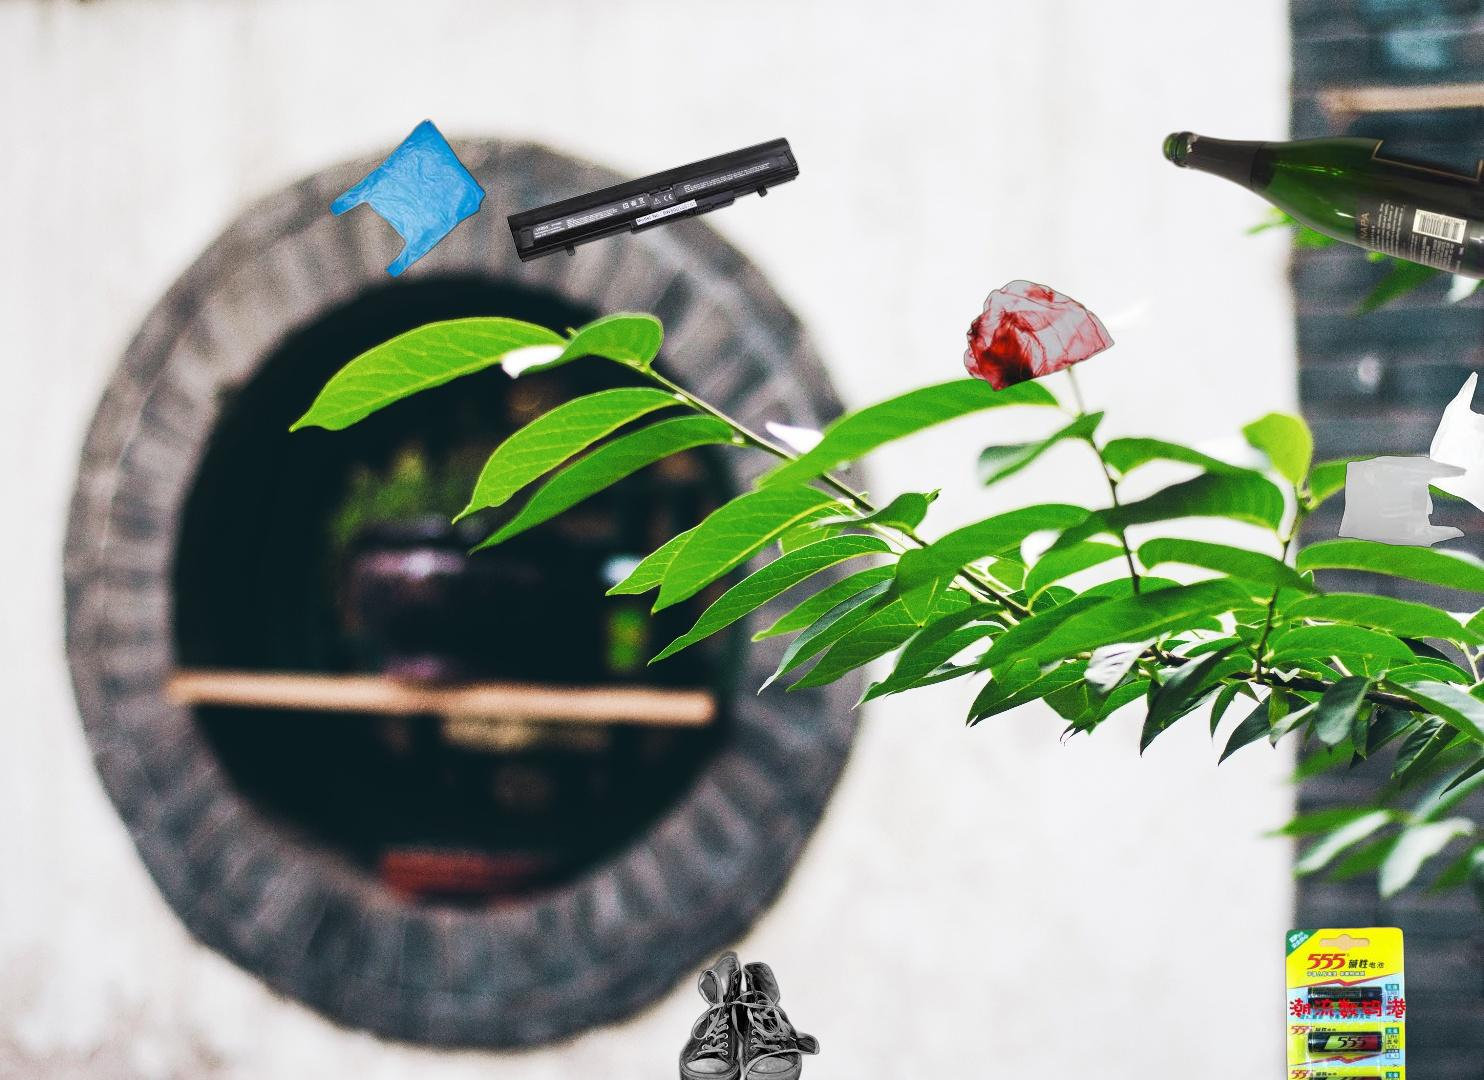battery: (505, 135, 801, 265), (1284, 924, 1411, 1080)
glass: (1158, 128, 1484, 284)
plastic-bag: (327, 116, 574, 337), (1335, 368, 1484, 551), (961, 277, 1116, 393)
shoes: (676, 949, 821, 1080)
trash: (1419, 216, 1484, 408)
